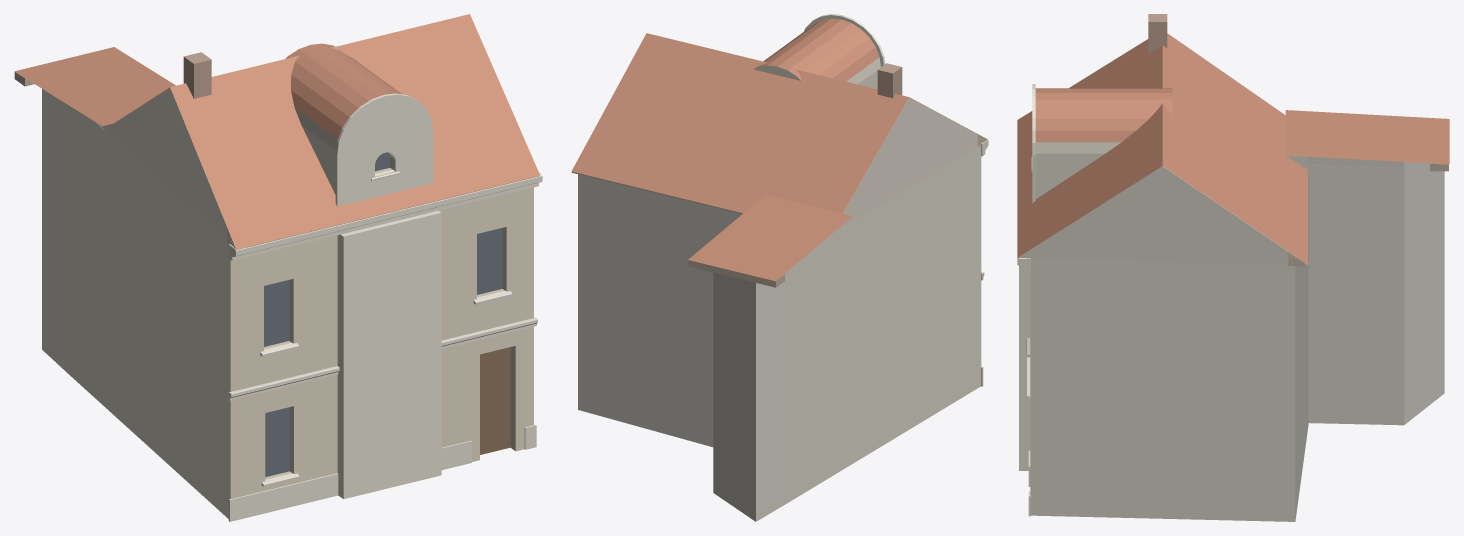
3 renders of one model, left to right at view 1: azimuth 30°, elevation 25°; view 2: azimuth 150°, elevation 25°; view 3: azimuth 270°, elevation 25°, orthographic. The views are drawn at different scales.
Parts seen in each view (by area): view 1: CP_1230_Masonry, CP_1230_Roof, CP_1230_Bay, CP_1230_Dormer_CB_frame, CP_1230_Dormer_CB, CP_1230_Gable_L_gable, CP_1230_WingRoof_RearWing, CP_1230_Cornice_main_0, CP_1230_Cornice_plinth_0, CP_1230_Cornice_string_0, CP_1230_Chimney_0; view 2: CP_1230_Masonry, CP_1230_Roof, CP_1230_WingRoof_RearWing, CP_1230_Gable_L_gable, CP_1230_Dormer_CB, CP_1230_Chimney_0, CP_1230_WingRoof_RearWing_EaveClosure_0, CP_1230_Dormer_CB_frame; view 3: CP_1230_Masonry, CP_1230_Roof, CP_1230_Gable_R_gable, CP_1230_Dormer_CB, CP_1230_WingRoof_RearWing, CP_1230_Bay, CP_1230_AtticClosure, CP_1230_Chimney_0.
Boxes of the visible parts, bbox=[...] form: CP_1230_Masonry: bbox=[42, 89, 533, 518]; CP_1230_Roof: bbox=[106, 14, 539, 249]; CP_1230_Bay: bbox=[337, 210, 441, 499]; CP_1230_Dormer_CB_frame: bbox=[335, 93, 433, 206]; CP_1230_Dormer_CB: bbox=[285, 43, 401, 194]; CP_1230_Gable_L_gable: bbox=[104, 87, 244, 249]; CP_1230_WingRoof_RearWing: bbox=[14, 47, 175, 126]; CP_1230_Cornice_main_0: bbox=[228, 172, 542, 260]; CP_1230_Cornice_plinth_0: bbox=[228, 440, 471, 521]; CP_1230_Cornice_string_0: bbox=[228, 317, 537, 400]; CP_1230_Chimney_0: bbox=[183, 52, 211, 98]; CP_1230_Masonry: bbox=[578, 145, 981, 521]; CP_1230_Roof: bbox=[571, 33, 986, 213]; CP_1230_WingRoof_RearWing: bbox=[688, 195, 852, 281]; CP_1230_Gable_L_gable: bbox=[834, 97, 987, 232]; CP_1230_Dormer_CB: bbox=[754, 18, 880, 89]; CP_1230_Chimney_0: bbox=[877, 63, 902, 98]; CP_1230_WingRoof_RearWing_EaveClosure_0: bbox=[688, 260, 784, 287]; CP_1230_Dormer_CB_frame: bbox=[804, 14, 885, 66]; CP_1230_Masonry: bbox=[1030, 162, 1444, 521]; CP_1230_Roof: bbox=[1017, 33, 1307, 264]; CP_1230_Gable_R_gable: bbox=[1018, 166, 1307, 265]; CP_1230_Dormer_CB: bbox=[1035, 88, 1172, 198]; CP_1230_WingRoof_RearWing: bbox=[1285, 110, 1449, 164]; CP_1230_Bay: bbox=[1019, 266, 1030, 470]; CP_1230_AtticClosure: bbox=[1286, 155, 1409, 169]; CP_1230_Chimney_0: bbox=[1148, 14, 1167, 54].
Bounding box in the file's own units: 10.76 × 13 × 13.54.
